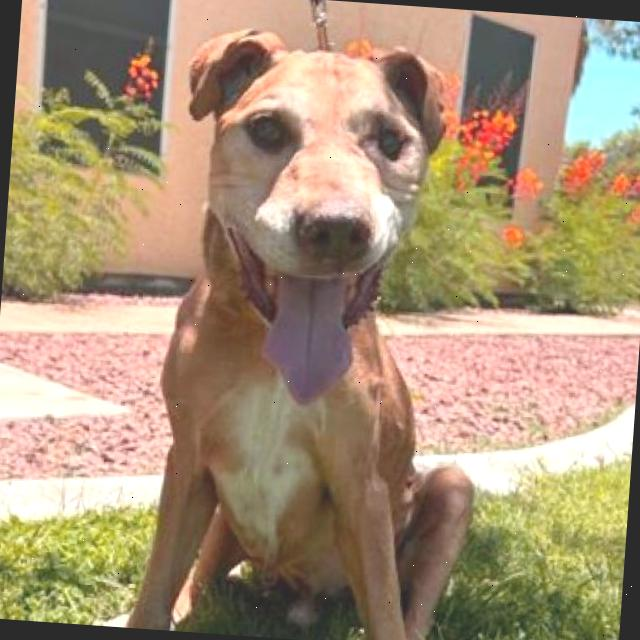labrador_retriever_dog: (148, 19, 462, 420)
